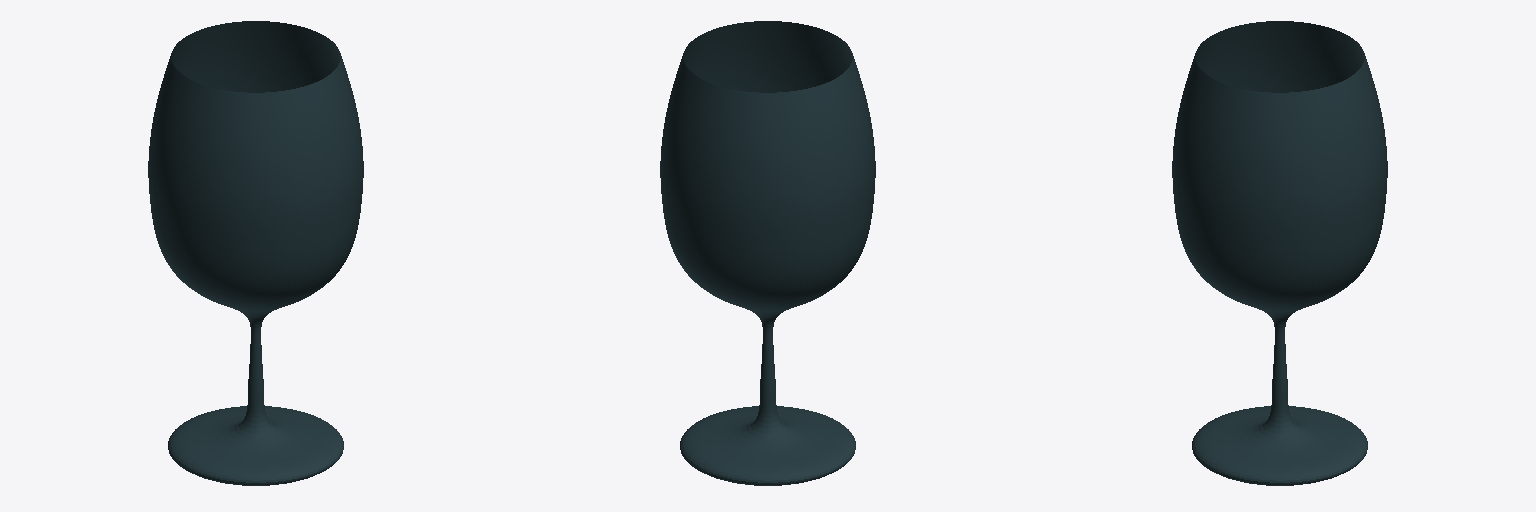
The model's file is Wineglass.1obj.obj.
The picture shows the model from 3 angles: view 1: azimuth 30°, elevation 25°; view 2: azimuth 150°, elevation 25°; view 3: azimuth 270°, elevation 25°; orthographic projection.
Visible parts, largest first — view 1: Wine_Glass_Plane; view 2: Wine_Glass_Plane; view 3: Wine_Glass_Plane.
Boxes of the visible parts, x1=… form: Wine_Glass_Plane: x1=148, y1=21, x2=363, y2=485; Wine_Glass_Plane: x1=660, y1=21, x2=875, y2=485; Wine_Glass_Plane: x1=1172, y1=21, x2=1387, y2=485.
Bounding box in the file's own units: 1.75 × 3.56 × 1.75.